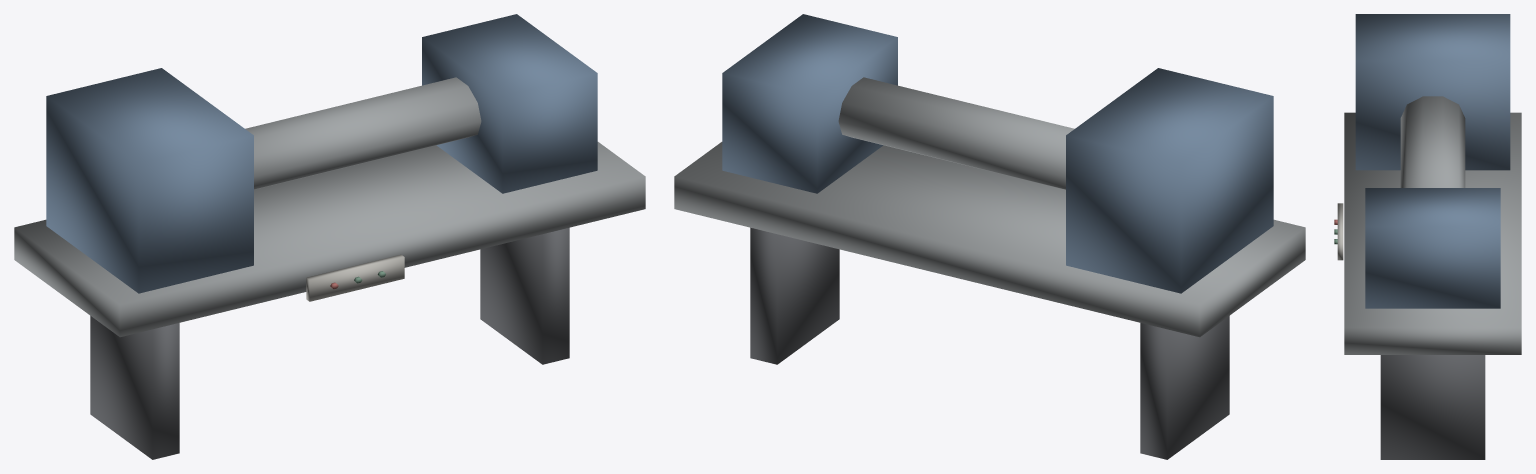
File: metal_lathe_silhouette__squat.glb
The picture shows the model from 3 angles, left to right: view 1: azimuth 30°, elevation 25°; view 2: azimuth 150°, elevation 25°; view 3: azimuth 270°, elevation 25°; orthographic projection. The views are drawn at different scales.
Visible parts, largest first — view 1: world; view 2: world; view 3: world.
Part boxes in pixels (x1,y1,x2,y2): world: [14, 14, 645, 459]; world: [674, 14, 1305, 459]; world: [1334, 14, 1521, 459].
Bounding box in the file's own units: 1.7 × 0.9744 × 0.6275.
